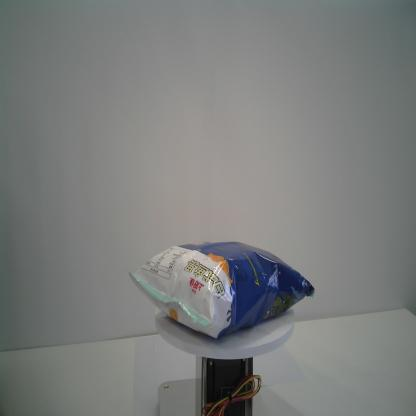Puffed Food: (125, 238, 316, 339)
